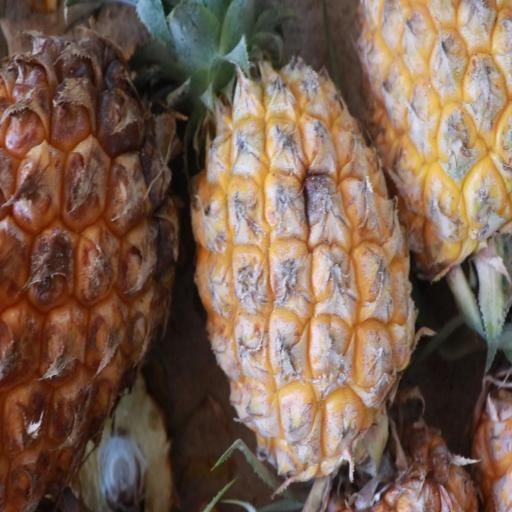Pineapple - v8 v1: (185, 2, 420, 480), (0, 19, 181, 512), (354, 0, 512, 284)
